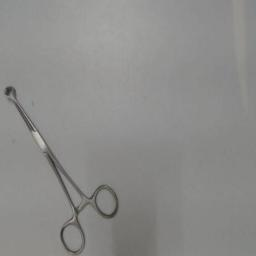Babcock Tissue Forceps: (2, 80, 122, 254)
